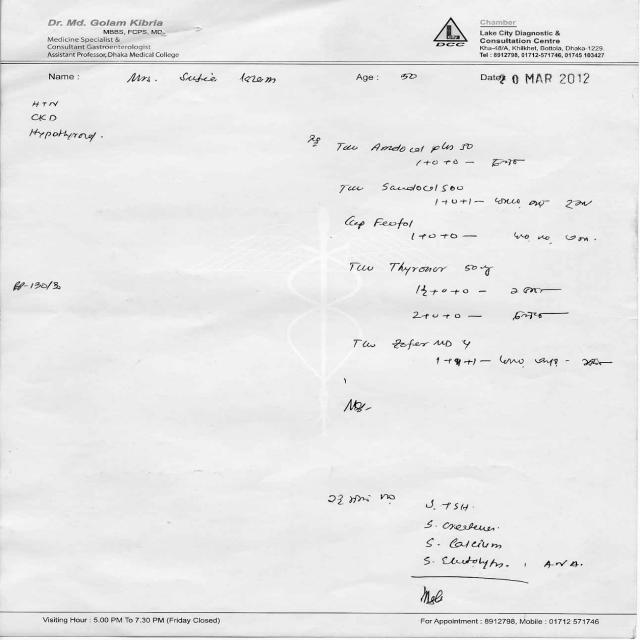medicine: (385, 258, 450, 278), (388, 334, 456, 352), (367, 138, 428, 156), (373, 180, 443, 194), (370, 213, 418, 231)
